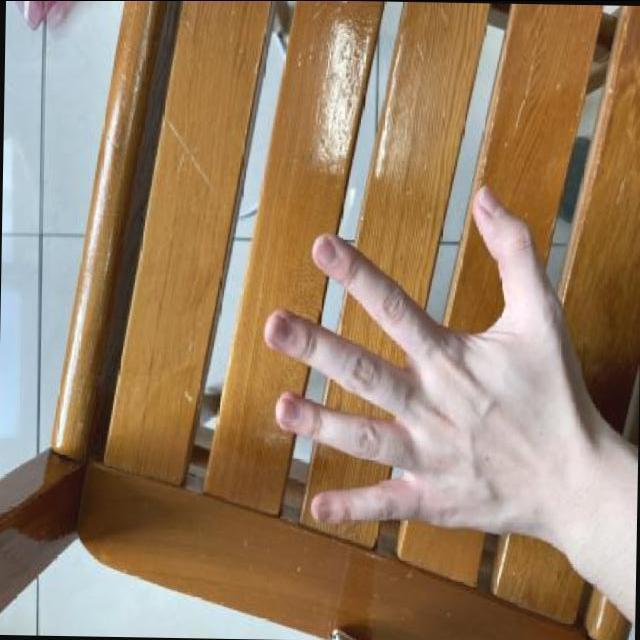hand: (246, 172, 604, 558)
